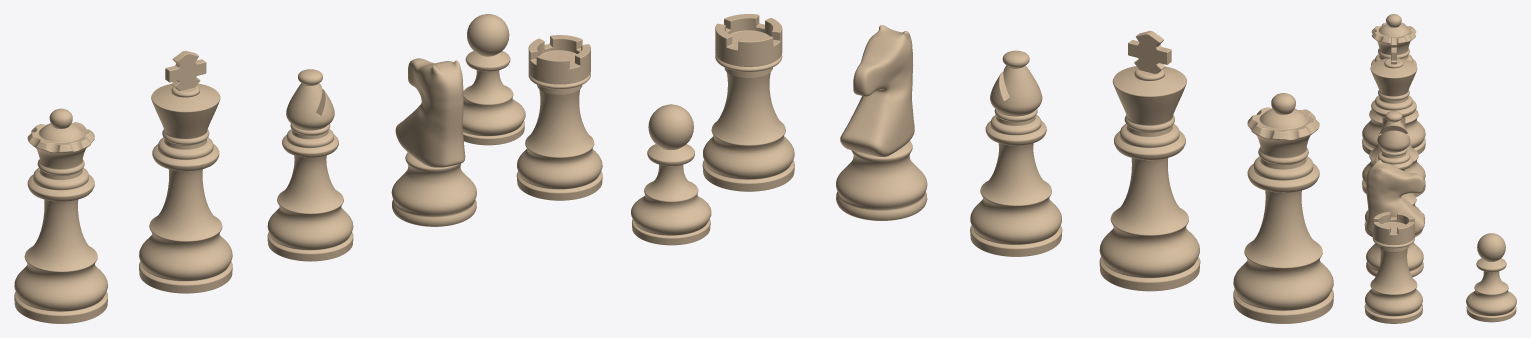
The model's file is White_Chess_Pieces.glb.
3 renders of one model, left to right at view 1: azimuth 30°, elevation 25°; view 2: azimuth 150°, elevation 25°; view 3: azimuth 270°, elevation 25°, orthographic. The views are drawn at different scales.
Visible parts, largest first — view 1: White_King, White_Queen, White_Knight, White_Bishop, White_Rook, White_Pawn; view 2: White_King, White_Queen, White_Knight, White_Bishop, White_Rook, White_Pawn; view 3: White_Rook, White_Knight, White_King, White_Pawn, White_Queen, White_Bishop.
Part boxes in pixels (x1,y1,x2,y2): White_King: (139,50,232,293); White_Queen: (14,108,107,323); White_Knight: (391,58,476,226); White_Bishop: (267,69,353,261); White_Rook: (516,35,602,200); White_Pawn: (462,14,525,145); White_King: (1099,30,1200,291); White_Queen: (1233,93,1333,323); White_Knight: (836,25,927,220); White_Bishop: (970,50,1062,256); White_Rook: (702,14,794,191); White_Pawn: (631,104,711,245); White_Rook: (1364,212,1422,323); White_Knight: (1366,160,1424,277); White_King: (1362,37,1425,196); White_Pawn: (1466,233,1516,322); White_Queen: (1362,14,1425,154); White_Bishop: (1364,111,1422,237).
Bounding box in the file's own units: 0.228 × 0.0839 × 0.0782.
